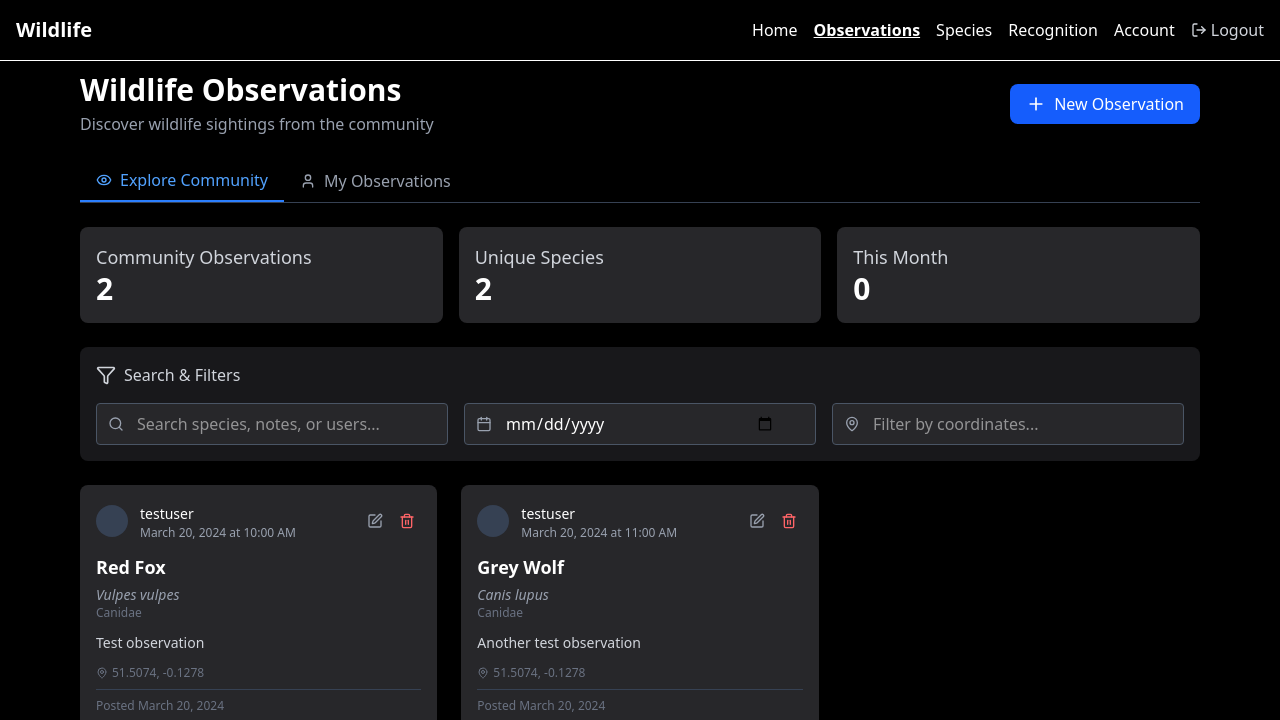
it: Observations Page › filters observations by search term
The width and height of the screenshot is (1280, 720).
Check: the heading "Red Fox" is shown, box [96, 555, 166, 579]
Check: the heading "Grey Wolf" is shown, box [477, 555, 564, 579]
Test search filtering
Step 1. Type "fox" into the field with placeholder "Search species, notes, or users..." → (272, 424), box [96, 403, 448, 445]
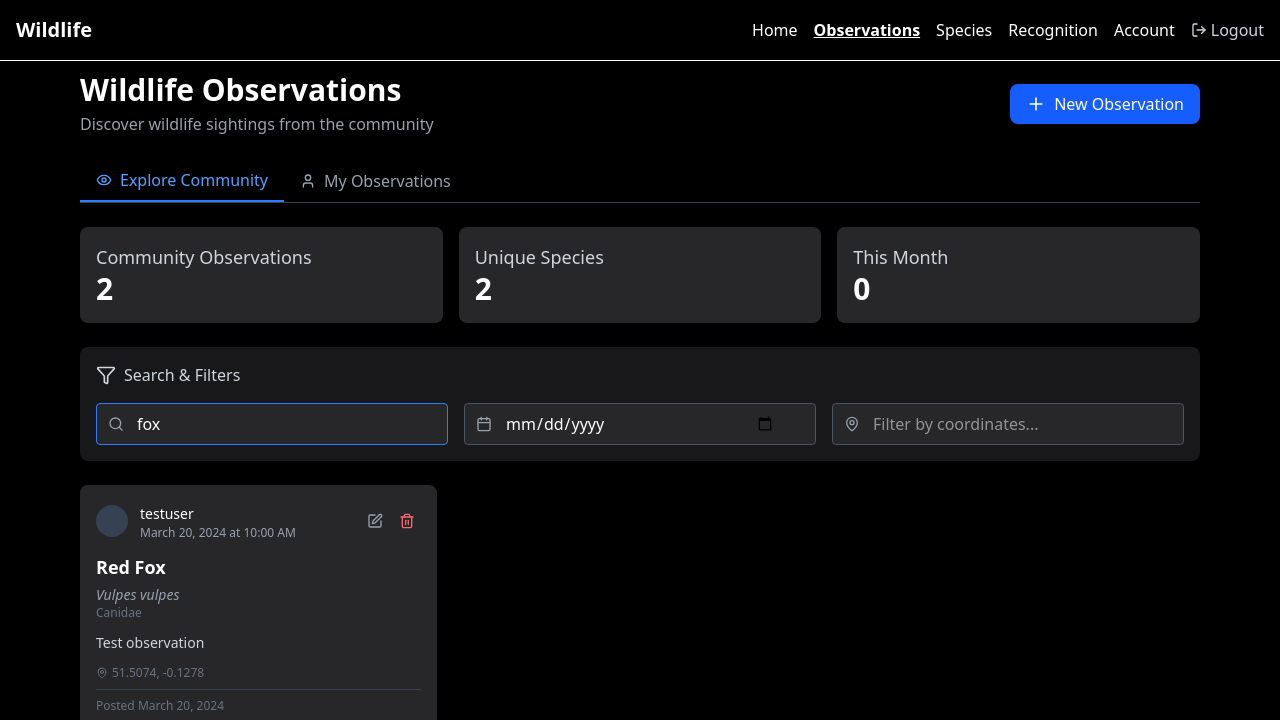
Check: the heading "Red Fox" is shown, box [96, 555, 166, 579]
Check: the heading "Grey Wolf" is gone
